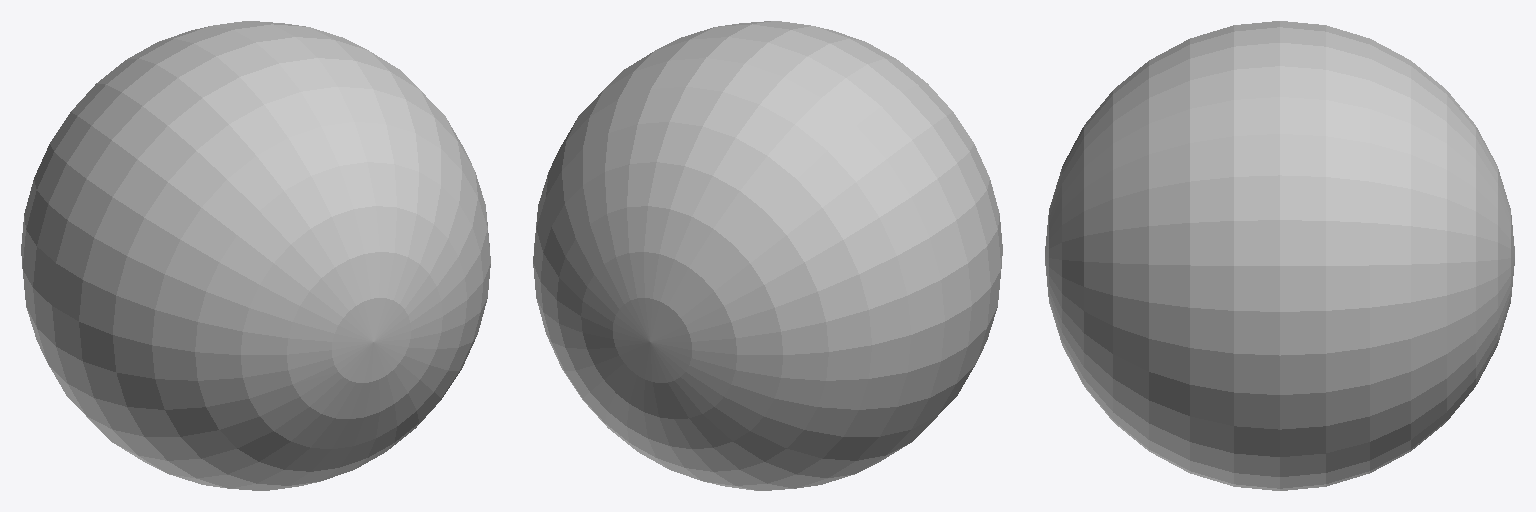
Rendered from EnemyBullet.obj.
3 renders of one model, left to right at view 1: azimuth 30°, elevation 25°; view 2: azimuth 150°, elevation 25°; view 3: azimuth 270°, elevation 25°, orthographic.
Parts seen in each view (by area): view 1: EnemyBullet; view 2: EnemyBullet; view 3: EnemyBullet.
Boxes of the visible parts, <box> form: EnemyBullet: <box>21,21,490,490</box>; EnemyBullet: <box>533,21,1002,490</box>; EnemyBullet: <box>1045,21,1514,490</box>.
Bounding box in the file's own units: 0.6 × 0.6 × 0.6.